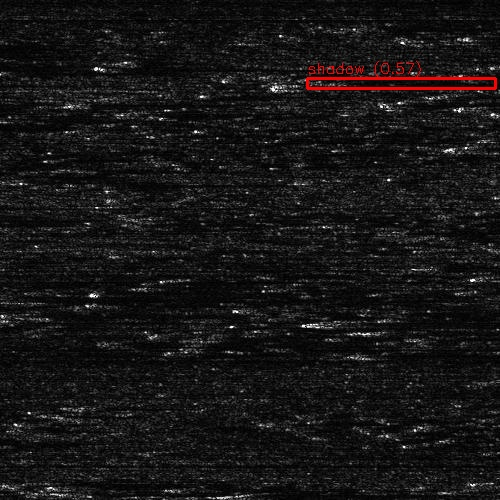rock: (167, 486, 292, 500), (20, 478, 113, 491), (8, 304, 71, 321), (291, 315, 374, 326), (0, 288, 44, 301), (443, 141, 500, 150), (57, 98, 120, 105), (111, 64, 142, 69)
shadow: (0, 288, 432, 301), (0, 54, 258, 75), (67, 478, 412, 491), (40, 304, 260, 321), (230, 486, 444, 500), (0, 427, 83, 452), (333, 315, 500, 326), (89, 98, 247, 105), (127, 64, 288, 69), (0, 216, 33, 225), (0, 82, 47, 85)
